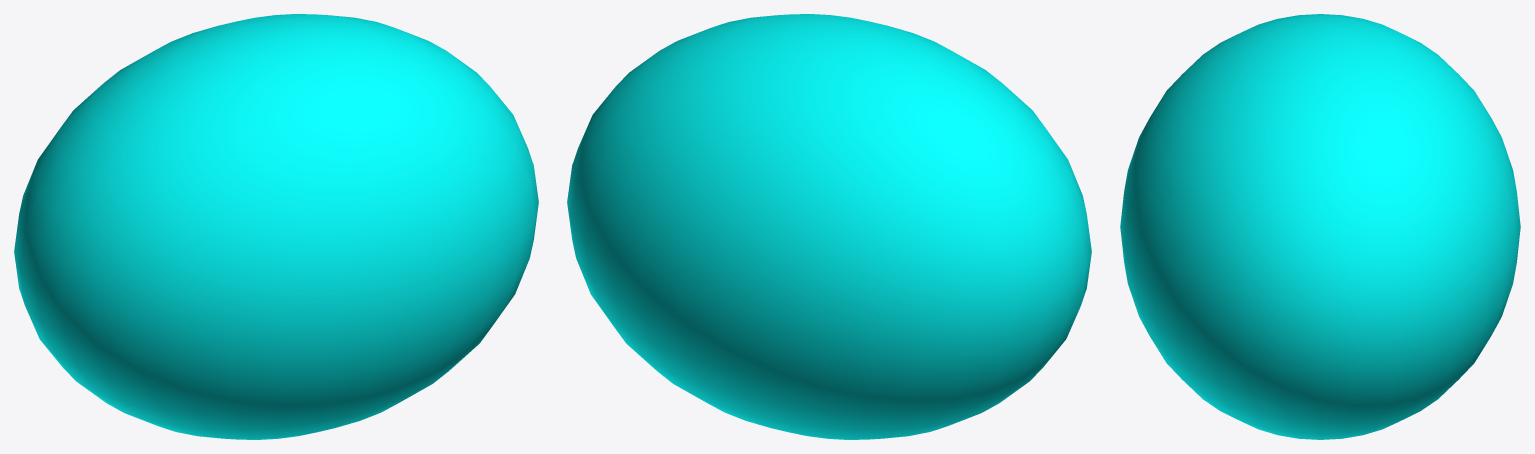
File: spheroid.fbx
The picture shows the model from 3 angles, left to right: view 1: azimuth 30°, elevation 25°; view 2: azimuth 150°, elevation 25°; view 3: azimuth 270°, elevation 25°; orthographic projection. The views are drawn at different scales.
Parts seen in each view (by area): view 1: spheroid; view 2: spheroid; view 3: spheroid.
Part boxes in pixels (box(x1,y1,x2,y2)): spheroid: box(14, 14, 538, 439); spheroid: box(567, 14, 1091, 439); spheroid: box(1120, 14, 1520, 439).
Bounding box in the file's own units: 200 × 151 × 151.
